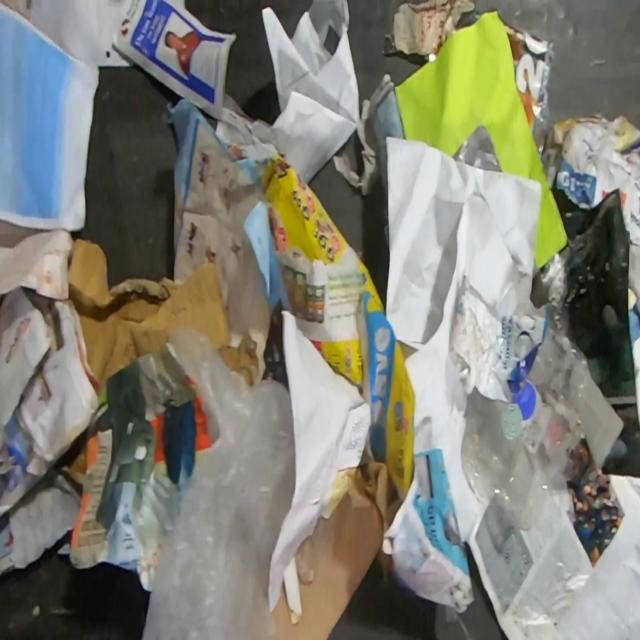cardboard: (394, 9, 570, 269), (57, 355, 211, 591), (68, 239, 261, 383), (269, 446, 404, 640)
rigid_plastic: (462, 305, 590, 529)
soft_plastic: (140, 321, 294, 640)
